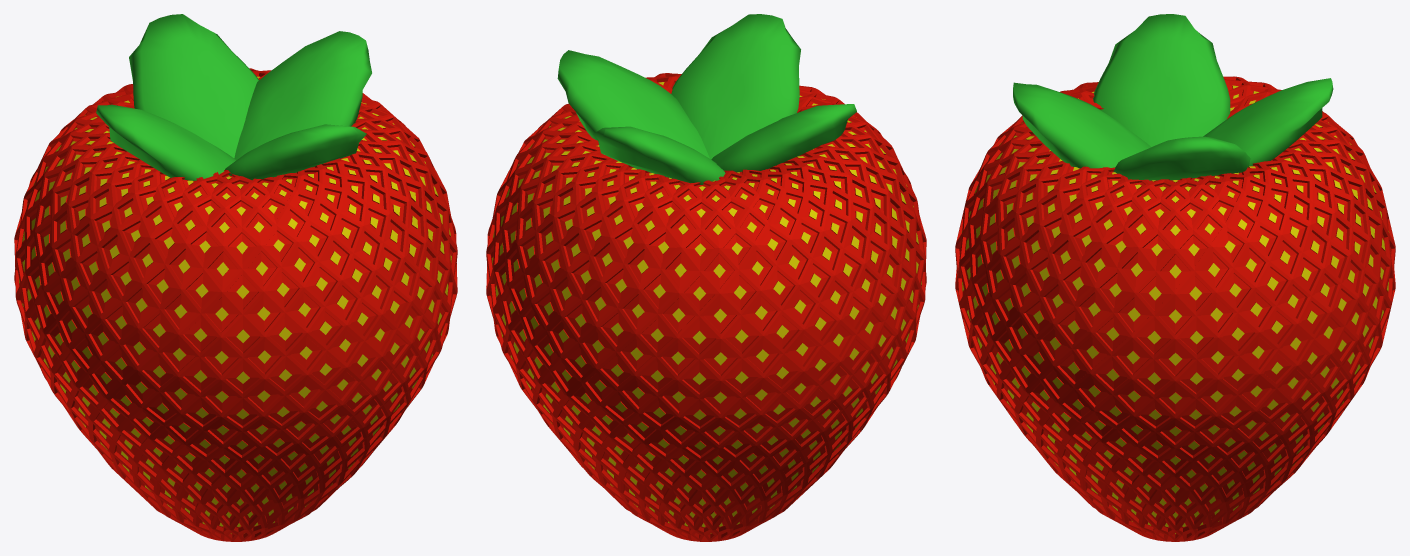
Rendered from Strawberry.fbx.
3 renders of one model, left to right at view 1: azimuth 30°, elevation 25°; view 2: azimuth 150°, elevation 25°; view 3: azimuth 270°, elevation 25°, orthographic.
Parts seen in each view (by area): view 1: Sphere_002; view 2: Sphere_002; view 3: Sphere_002.
Boxes of the visible parts, x1,y1,x2,y2 form: Sphere_002: (14,14,457,541); Sphere_002: (486,14,926,541); Sphere_002: (955,14,1395,541).
Bounding box in the file's own units: 1.99 × 2.27 × 1.99.
